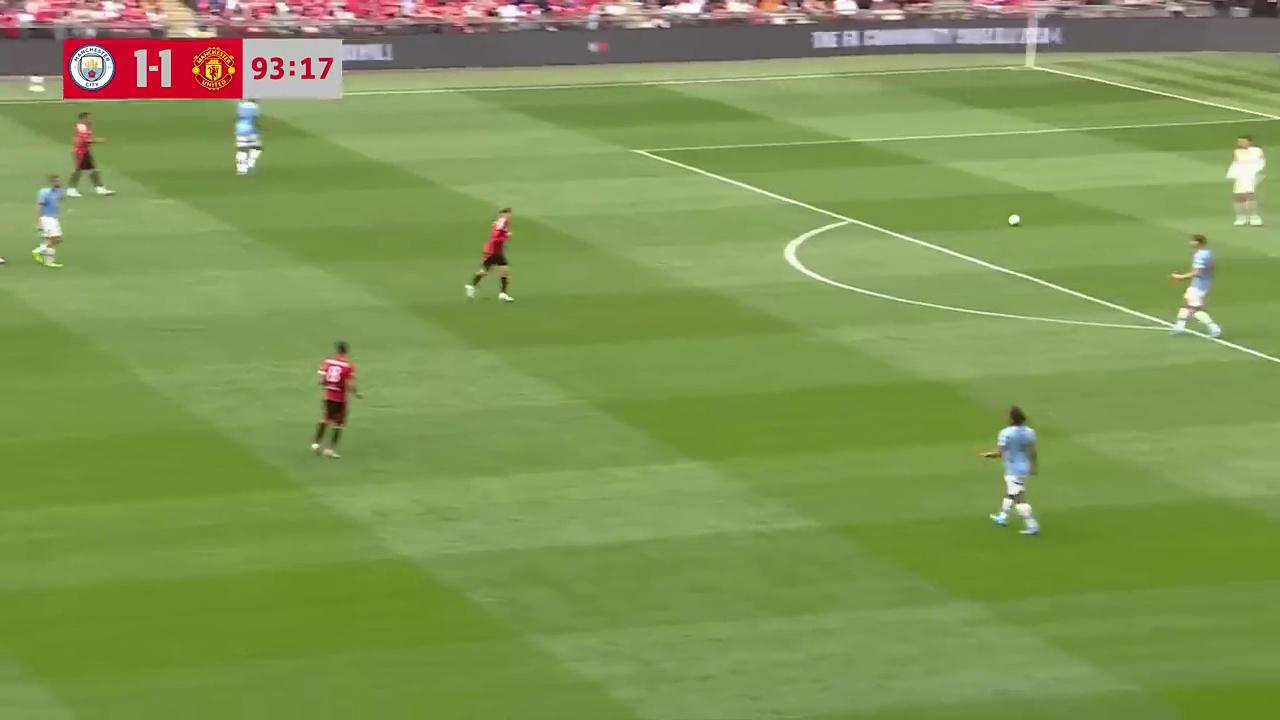ball: (1005, 209, 1022, 227)
player: (975, 405, 1040, 535), (310, 340, 362, 459), (1168, 234, 1223, 339), (462, 208, 515, 302), (1226, 134, 1266, 228), (68, 110, 111, 194), (32, 173, 68, 266), (233, 96, 262, 175)
